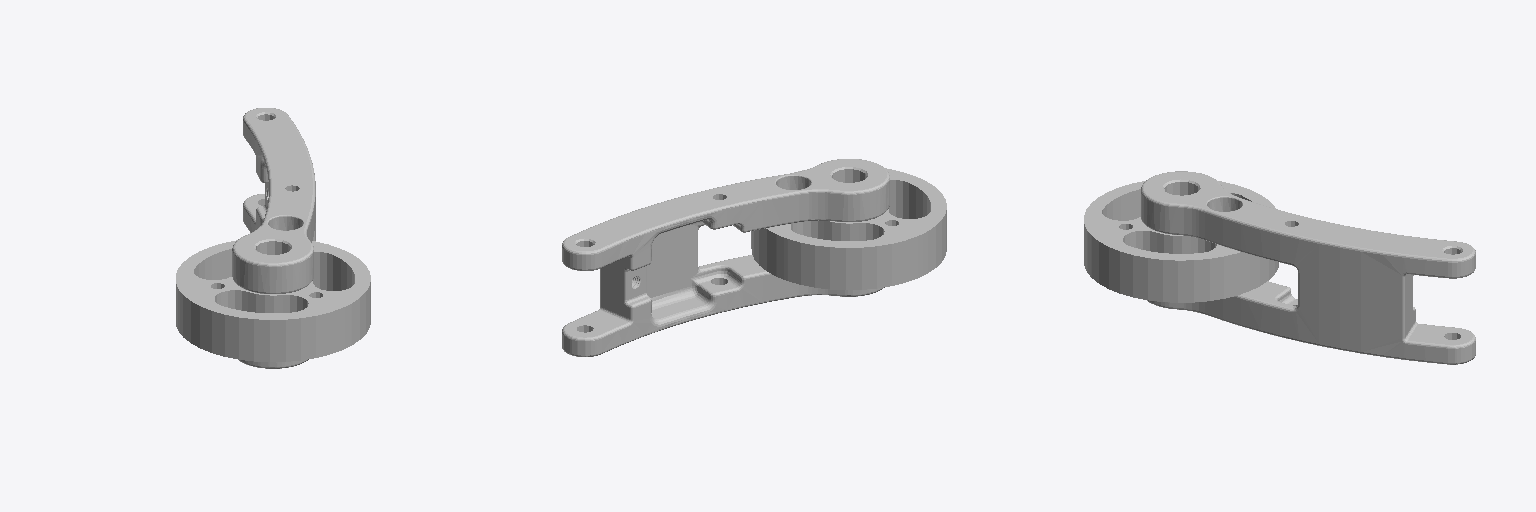
File: l_f_bar-1.obj
3 renders of one model, left to right at view 1: azimuth 30°, elevation 25°; view 2: azimuth 150°, elevation 25°; view 3: azimuth 270°, elevation 25°, orthographic.
Parts seen in each view (by area): view 1: obj1; view 2: obj1; view 3: obj1.
Boxes of the visible parts, <box> form: obj1: <box>176,108,370,368</box>; obj1: <box>562,159,946,356</box>; obj1: <box>1084,171,1475,364</box>.
Bounding box in the file's own units: 0.0462 × 0.02 × 0.0673.